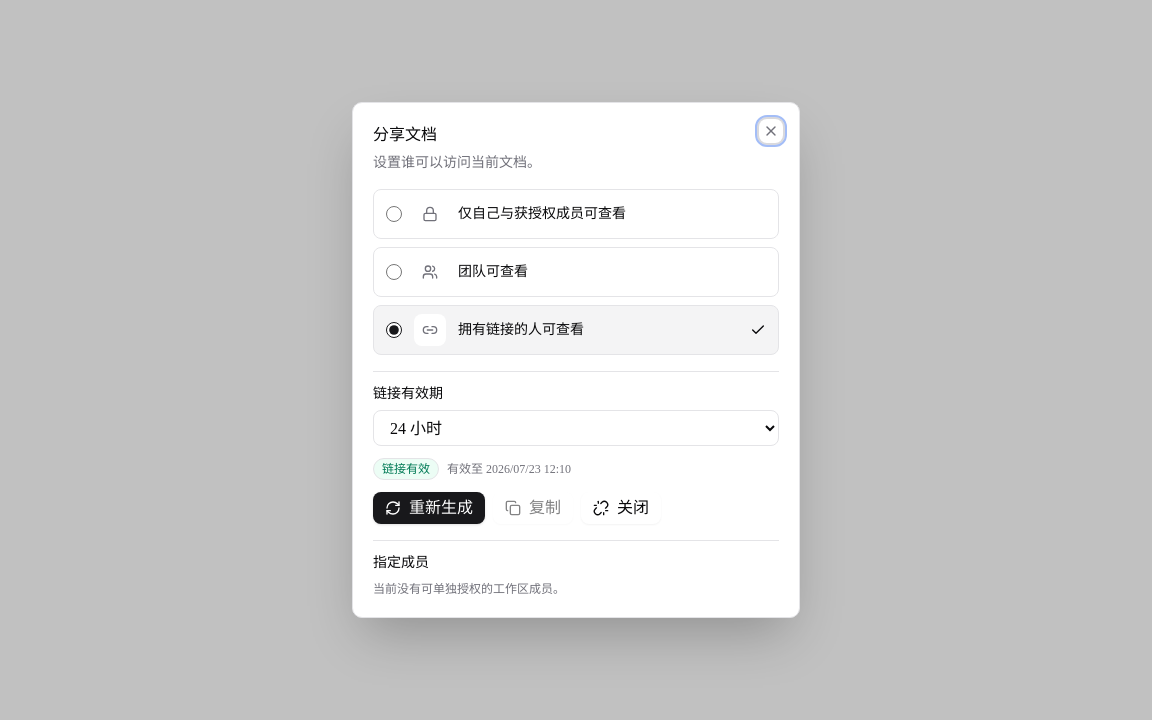
Test: SharePopover › does not disclose a loaded URL and supports regeneration and revocation
Expected: the text "链接有效" is shown, left=373, top=458, right=439, bottom=480
Expected: the field labelled "分享链接" is not shown
Click the button with aria-label "重新生成分享链接": coordinates (429, 508) left=373, top=492, right=485, bottom=524
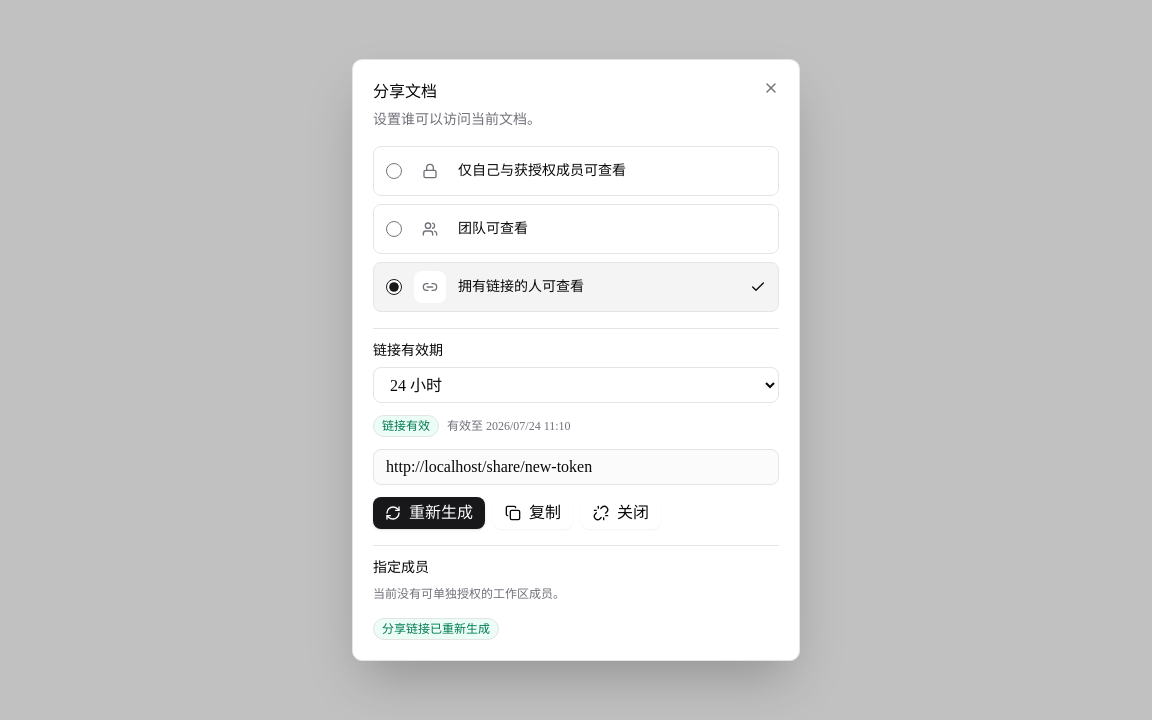
Expected: the field named "分享链接" holds "http://localhost/share/new-token", left=373, top=449, right=779, bottom=485
Click the button with aria-label "关闭分享链接": coordinates (621, 513) left=581, top=497, right=661, bottom=529
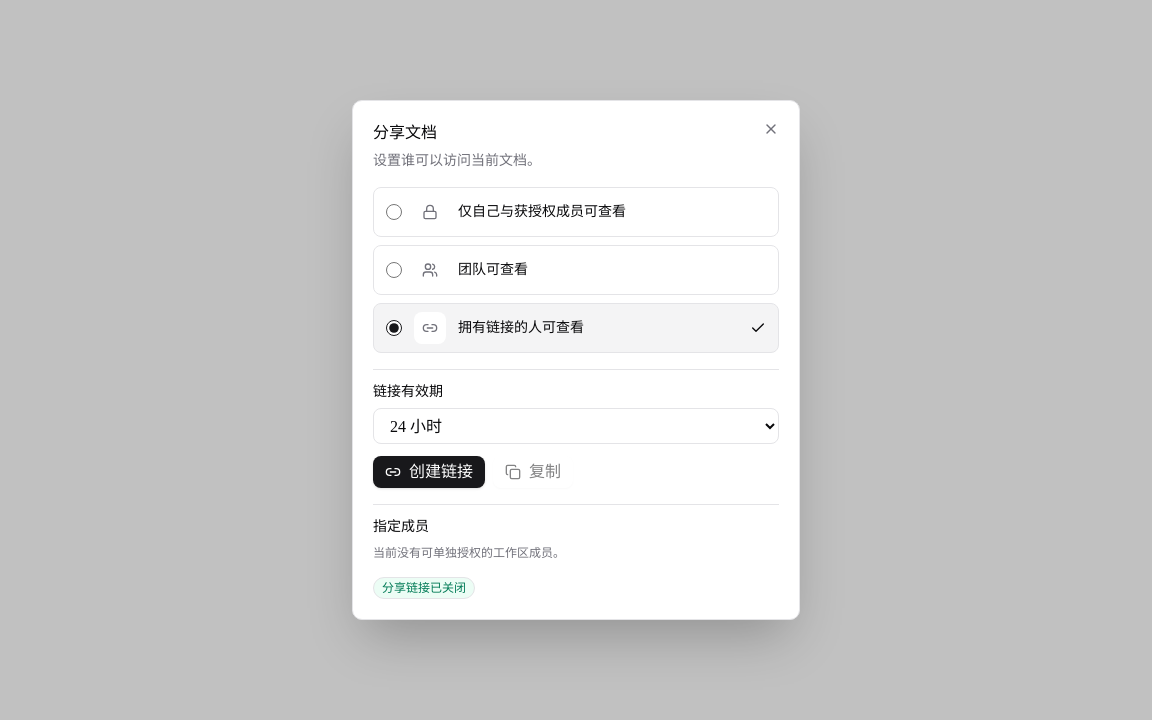
Expected: the button with aria-label "创建分享链接" is shown, left=373, top=456, right=485, bottom=488
